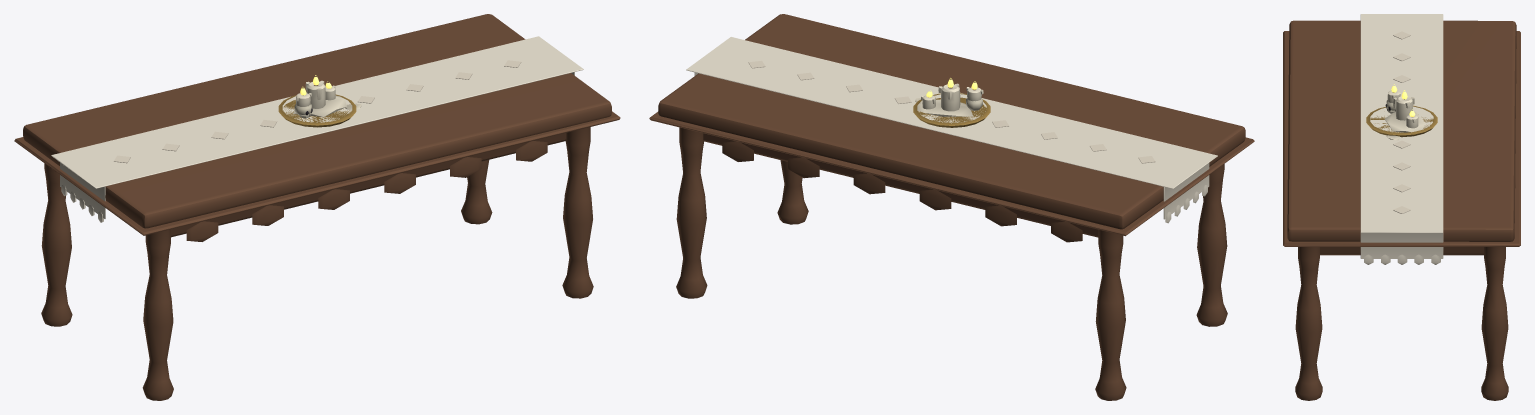
File: table_wake.glb
3 views of the same model, side by side, from view 1: azimuth 30°, elevation 25°; view 2: azimuth 150°, elevation 25°; view 3: azimuth 270°, elevation 25° (orthographic). The views are drawn at different scales.
Visible parts, largest first — view 1: table_wake; view 2: table_wake; view 3: table_wake.
Part boxes in pixels (x1,y1,x2,y2): table_wake: [14, 14, 620, 400]; table_wake: [649, 14, 1254, 400]; table_wake: [1283, 14, 1520, 400].
Size of the model in its own units: 2 by 0.9056 by 0.92.
